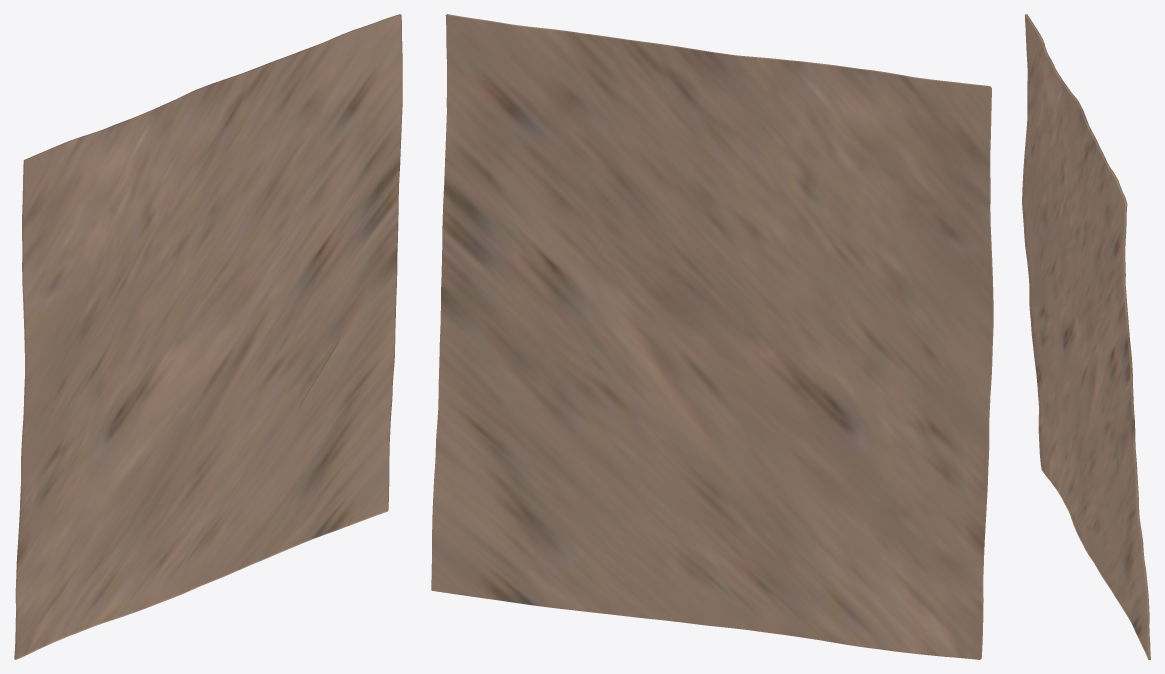
The picture shows the model from 3 angles, left to right: view 1: azimuth 30°, elevation 25°; view 2: azimuth 150°, elevation 25°; view 3: azimuth 270°, elevation 25°; orthographic projection. The views are drawn at different scales.
Size of the model in its own units: 10.95 by 12.25 by 3.14.
1 material, 1 textured.
